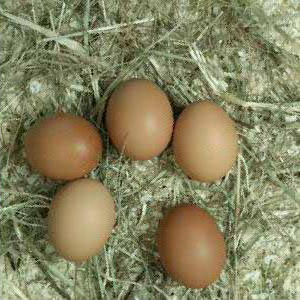egg: (157, 203, 229, 289), (46, 178, 117, 262), (23, 113, 105, 183), (105, 79, 174, 161), (175, 101, 238, 183)
